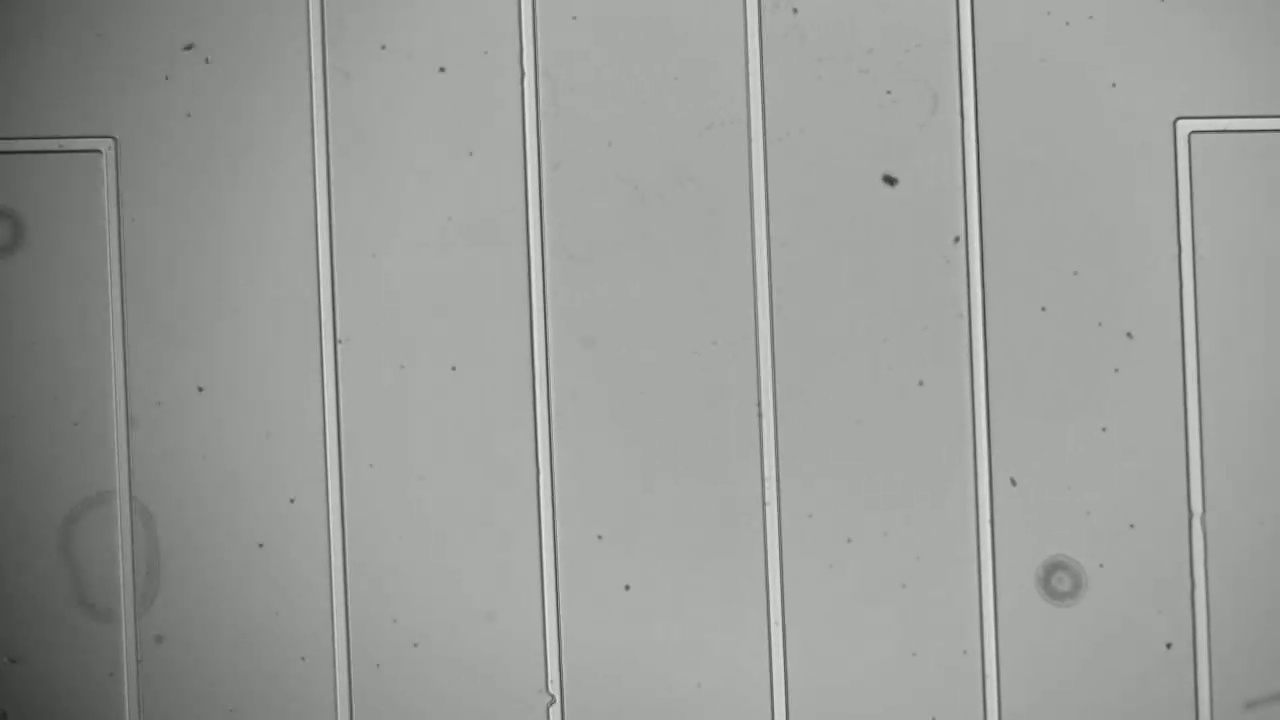edge_bite: (541, 687, 568, 716)
